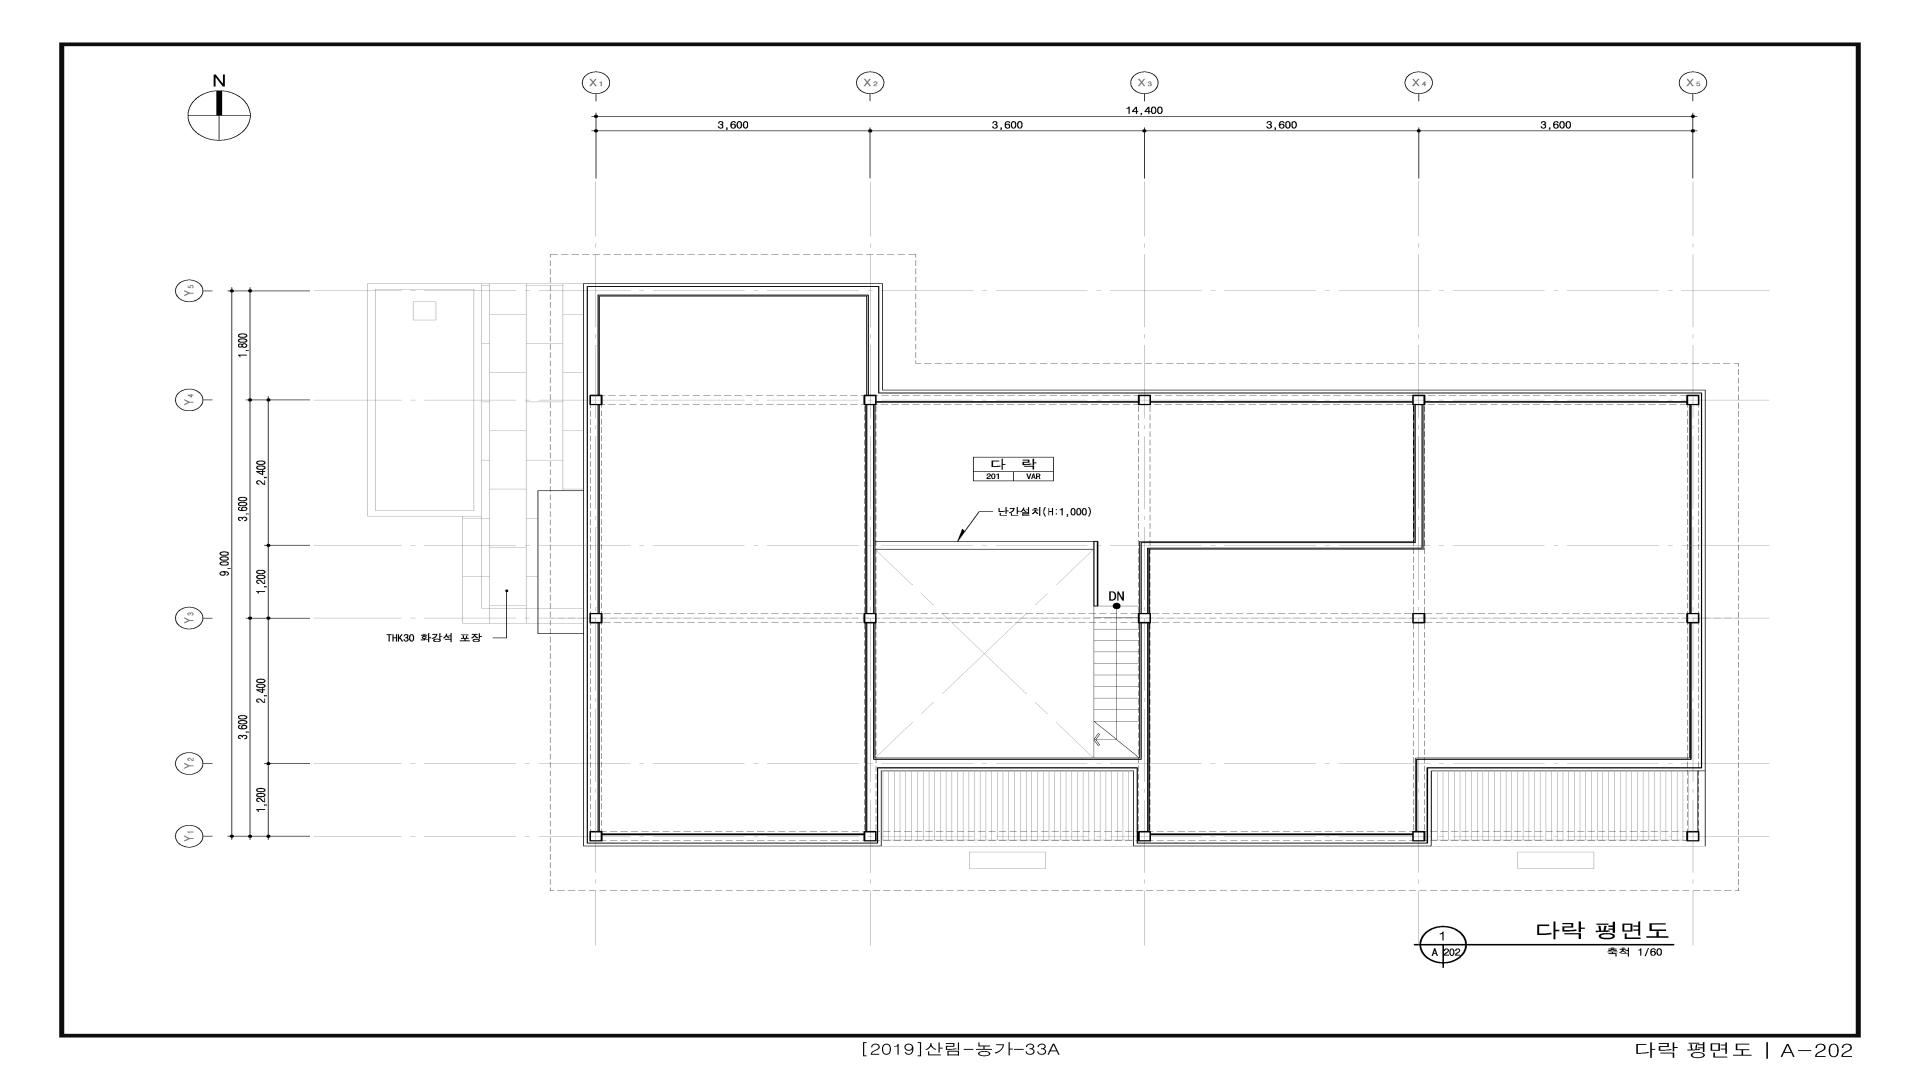wall: (583, 284, 1705, 847), (583, 284, 1705, 771), (599, 286, 1702, 769), (1137, 405, 1691, 844), (587, 286, 878, 844), (864, 405, 1137, 831), (1139, 405, 1415, 613), (1149, 405, 1424, 613), (1415, 624, 1691, 831), (599, 295, 868, 394), (876, 541, 1093, 550), (874, 757, 1141, 760), (1093, 541, 1098, 607), (877, 402, 1138, 404), (1151, 402, 1412, 404), (1425, 402, 1687, 404), (1151, 833, 1412, 835), (599, 405, 600, 613), (874, 405, 876, 613), (865, 405, 866, 613), (1689, 405, 1691, 613), (599, 624, 600, 831), (865, 624, 866, 831), (1149, 624, 1150, 831), (1139, 624, 1141, 758), (874, 624, 876, 757), (1412, 613, 1425, 624), (1687, 831, 1700, 841), (603, 833, 864, 833)
